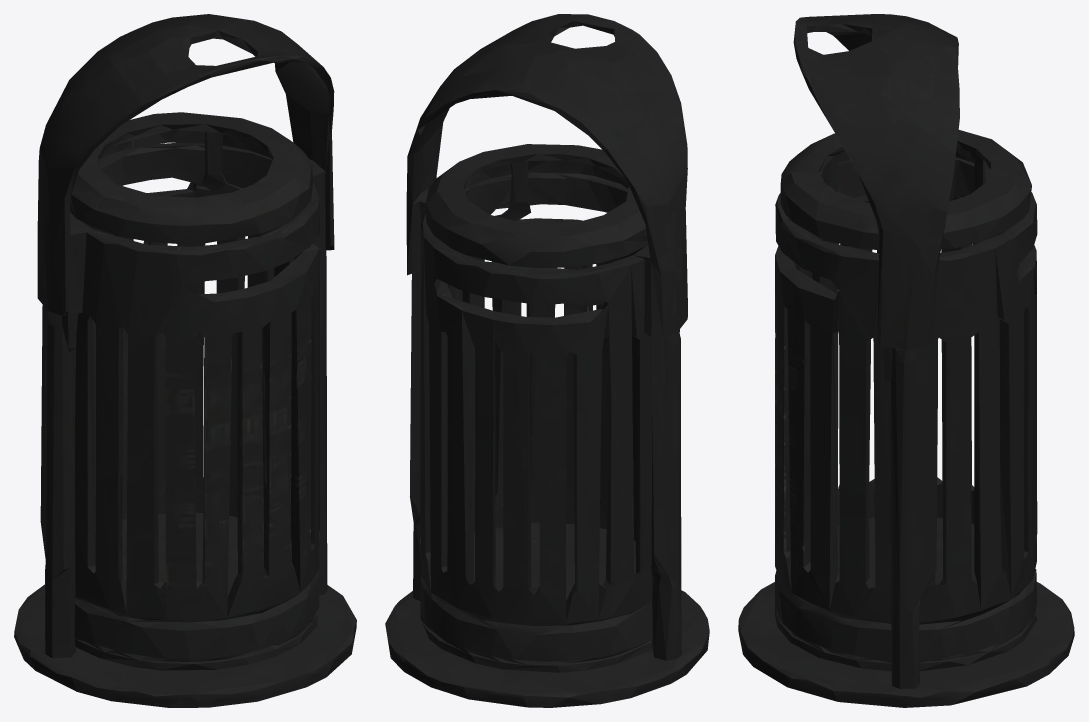
Rendered from litter_bin.glb.
The picture shows the model from 3 angles, left to right: view 1: azimuth 30°, elevation 25°; view 2: azimuth 150°, elevation 25°; view 3: azimuth 270°, elevation 25°; orthographic projection. The views are drawn at different scales.
Size of the model in its own units: 0.9597 by 1.9 by 0.9579.
1 material, 1 textured.
